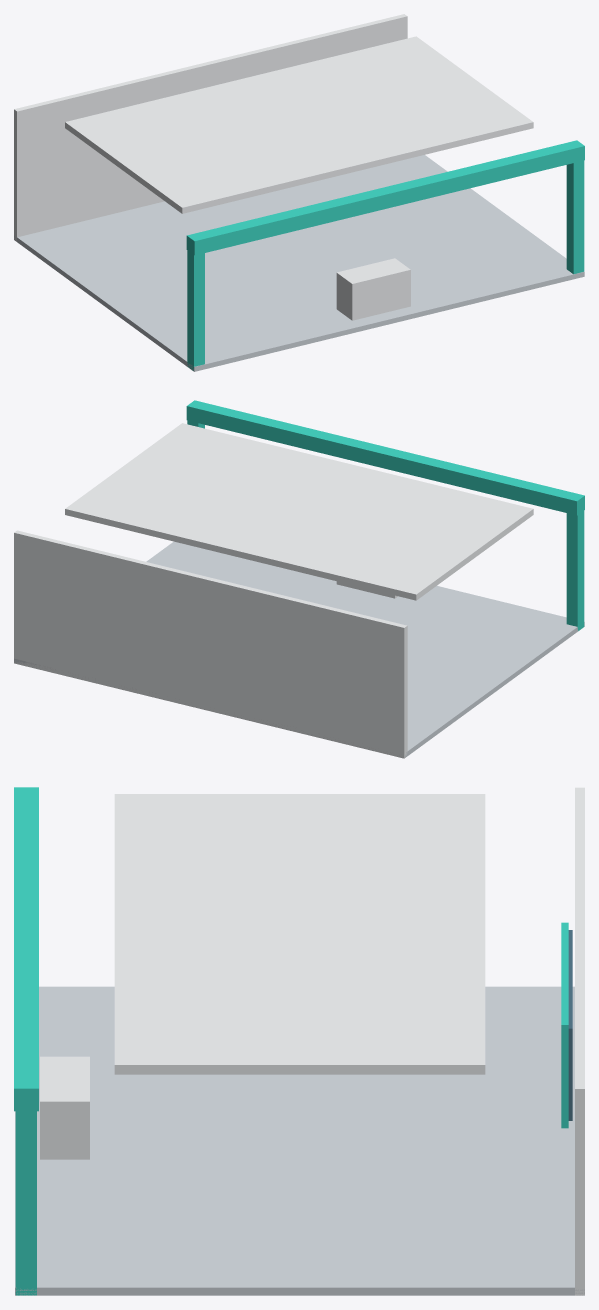
3 views of the same model, one above another, from view 1: azimuth 30°, elevation 25°; view 2: azimuth 150°, elevation 25°; view 3: azimuth 270°, elevation 25° (orthographic). The views are drawn at different scales.
Parts seen in each view (by area): view 1: Exhibition Booth Concept; view 2: Exhibition Booth Concept; view 3: Exhibition Booth Concept.
Boxes of the visible parts, left/top/right/bottom form: Exhibition Booth Concept: left=14, top=14, right=584, bottom=371; Exhibition Booth Concept: left=14, top=400, right=584, bottom=758; Exhibition Booth Concept: left=14, top=787, right=584, bottom=1295.
Size of the model in its own units: 10 by 3.34 by 8.01.
